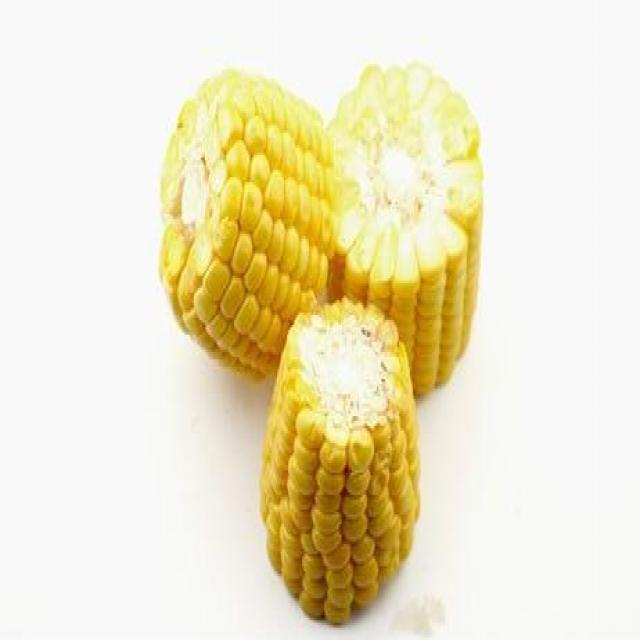Corn ear: (156, 65, 332, 355), (261, 336, 418, 627), (342, 64, 491, 338)
